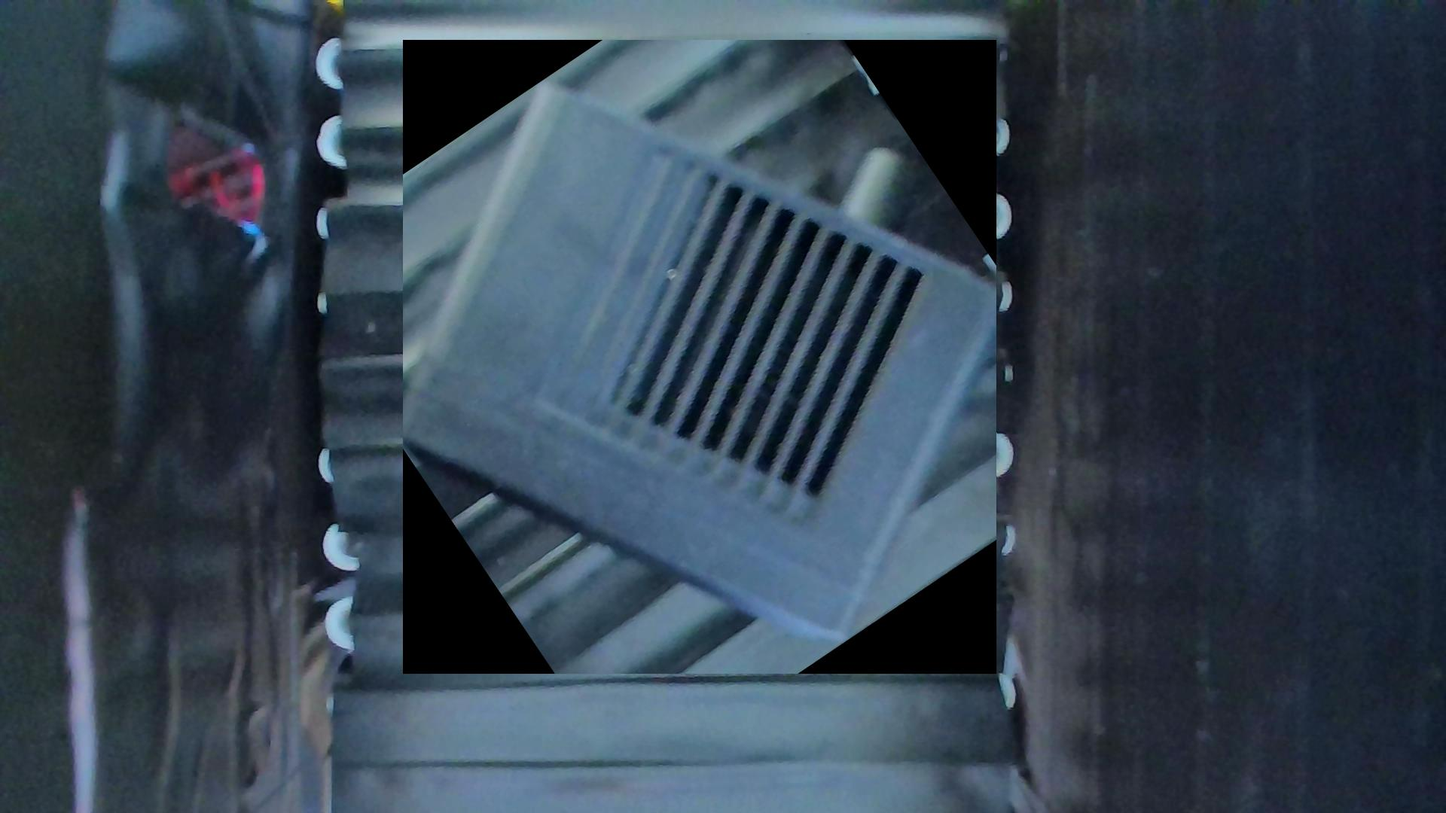motor: (403, 40, 998, 675)
